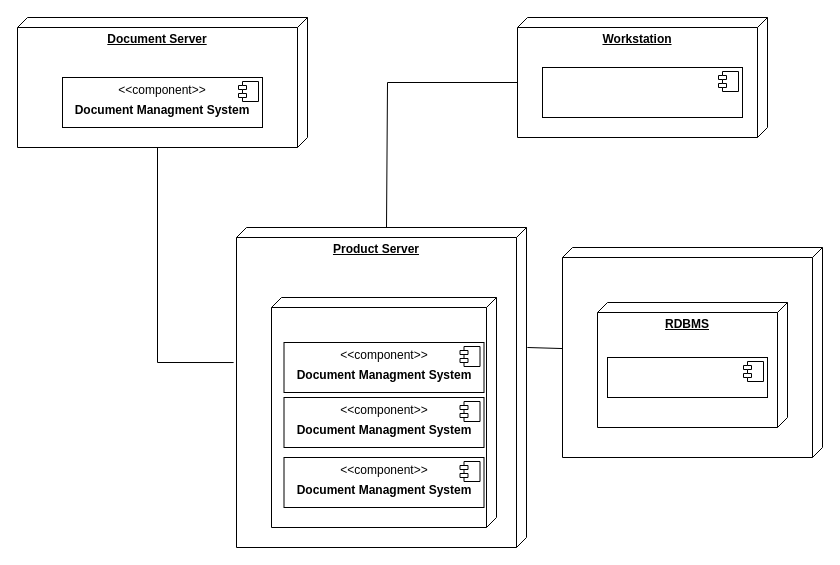
This 840x565 diagram has some shape labels left out. Each missing label, with the box of its shape:
<<component>> Product Server UI: (542, 66, 742, 118)
<<component>> Supply Schema: (606, 356, 768, 398)
Application Server: (270, 296, 496, 528)
Database Server: (562, 246, 822, 458)
